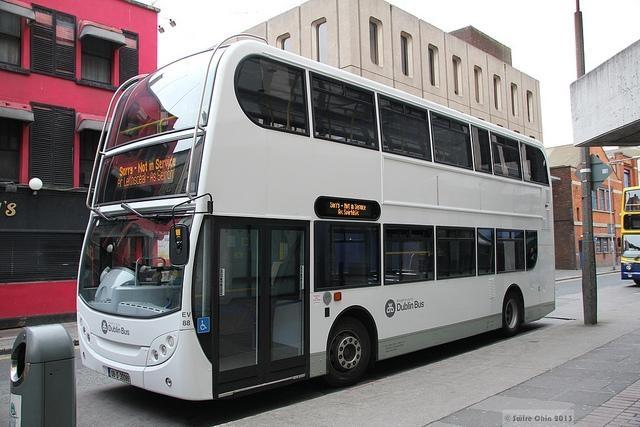bus: (73, 32, 556, 402), (621, 187, 637, 290)
